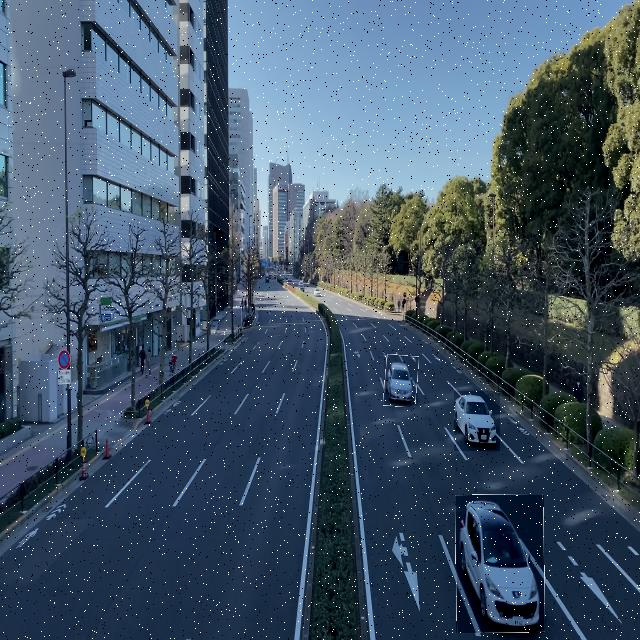Car: (456, 495, 544, 633), (454, 391, 500, 451), (384, 355, 418, 406)
